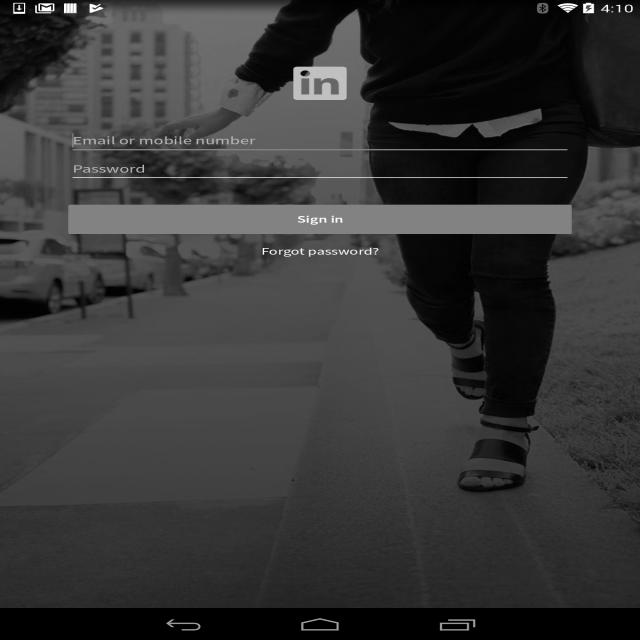Button: (68, 205, 572, 234), (17, 543, 307, 572), (333, 543, 623, 572), (273, 577, 367, 604)
EditText: (68, 127, 572, 155), (68, 155, 572, 183)
ImageView: (0, 0, 640, 608), (250, 229, 390, 282), (284, 511, 356, 540), (293, 67, 347, 100)
TextView: (21, 293, 619, 329), (261, 245, 379, 258)
